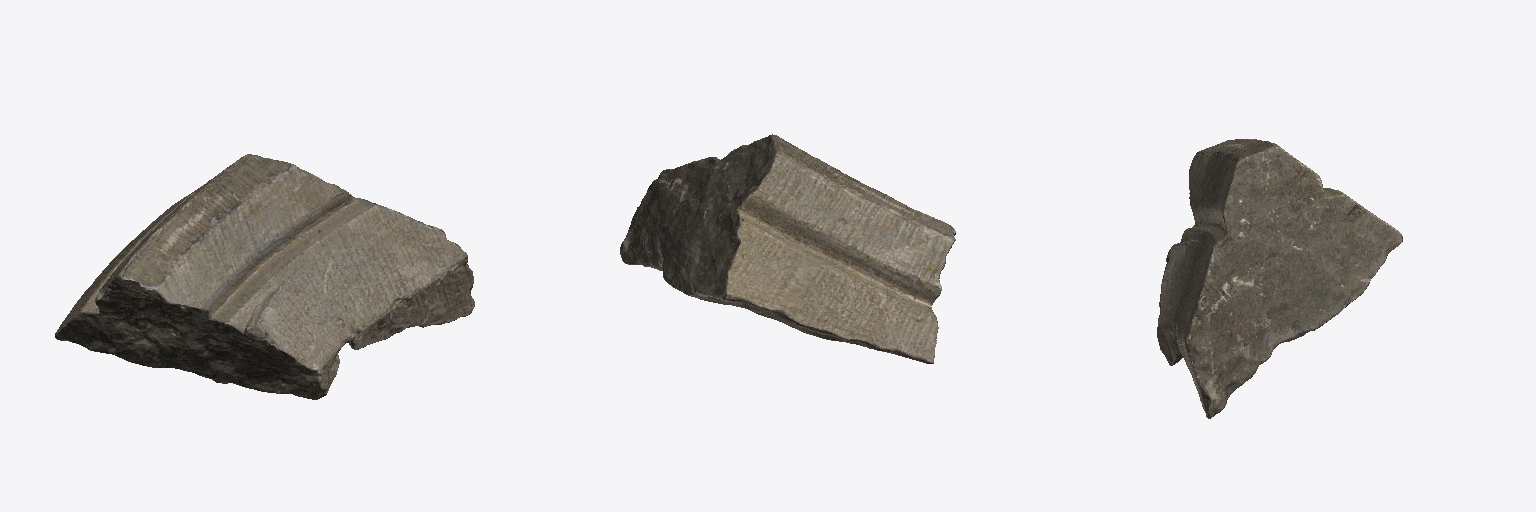
3 renders of one model, left to right at view 1: azimuth 30°, elevation 25°; view 2: azimuth 150°, elevation 25°; view 3: azimuth 270°, elevation 25°, orthographic.
Visible parts, largest first — view 1: object; view 2: object; view 3: object.
Part boxes in pixels (bbox=[...]): object: bbox=[55, 154, 474, 399]; object: bbox=[620, 134, 955, 363]; object: bbox=[1157, 139, 1402, 418].
Size of the model in its own units: 22.46 by 12.34 by 13.07.
1 materials, 1 textured.